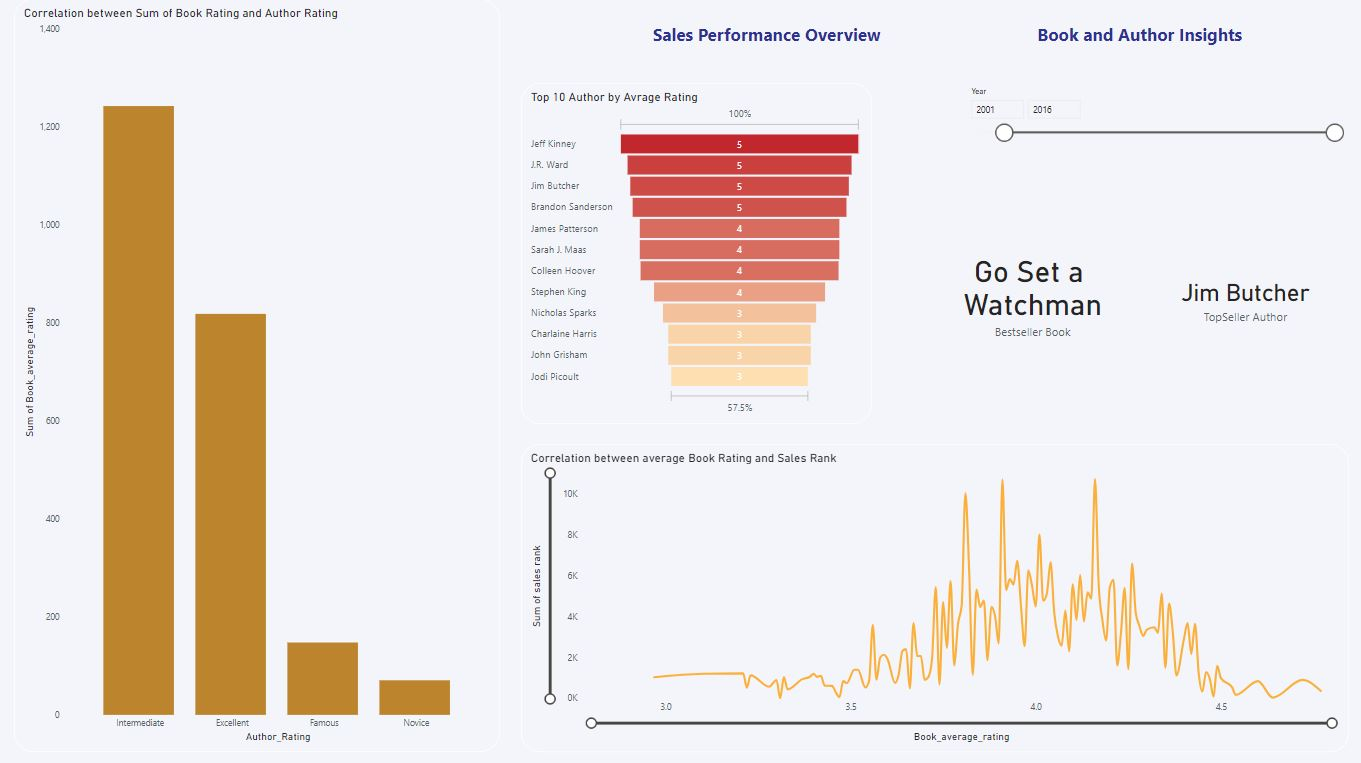

The page's visual inventory and layout, read from the dashboard file:
{"tool":"powerbi","page":{"name":"Book and Author Insights","canvas":[1920,1080],"ordinal":1},"visuals":[{"type":"actionButton","title":"Insights","box":[863.4,22.7,432.7,53.6],"z":0},{"type":"card","fields":{"Values":["Books_Data_Clean.Bestseller Book"]},"box":[1334,244,241.4,338.6],"z":0,"group":"g2"},{"type":"card","fields":{"Values":["Books_Data_Clean.TopSeller Author"]},"box":[1628,244,252,354],"z":0,"group":"g1"},{"type":"actionButton","title":"Sales","box":[1388.8,22.7,432.7,53.6],"z":1000},{"type":"slicer","fields":{"Values":["Books_Data_Clean.Publishing Year"]},"box":[1354,118,546,116],"z":2000},{"type":"funnel","title":"Top 10 Author by Avrage Rating","fields":{"Category":["Books_Data_Clean.Author"],"Y":["Books_Data_Clean.Average Author Rating"]},"box":[734,118,494,480],"z":3000},{"type":"lineChart","title":"Correlation between average Book Rating and  Sales Rank","fields":{"Y":["Sum(Books_Data_Clean.sales rank)"],"Category":["Books_Data_Clean.Book_average_rating"]},"box":[734,626,1166,434],"z":4000},{"type":"clusteredColumnChart","title":"Correlation between Sum of Book Rating and Author Rating","fields":{"Category":["Books_Data_Clean.Author_Rating"],"Y":["Sum(Books_Data_Clean.Book_average_rating)"]},"box":[20,0,684,1060],"z":5000},{"type":"group","id":"g1","title":"TopSeller Author","box":[1628,244,252,354],"z":6000},{"type":"group","id":"g2","title":"Bestseller book","box":[1334,244,240,338],"z":7000}]}

Visuals, with their boxes in screenshot pixels (x1, y1, x2, y2), scaled from the page's 1920x1080 canvas onto the 1361x763 screenshot:
"Insights" actionButton: (612, 16, 919, 54)
card - Books_Data_Clean.Bestseller Book: (946, 172, 1117, 412)
card - Books_Data_Clean.TopSeller Author: (1154, 172, 1333, 422)
"Sales" actionButton: (984, 16, 1291, 54)
slicer - Books_Data_Clean.Publishing Year: (960, 83, 1347, 165)
"Top 10 Author by Avrage Rating" funnel: (520, 83, 870, 422)
"Correlation between average Book Rating and  Sales Rank" lineChart: (520, 442, 1347, 749)
"Correlation between Sum of Book Rating and Author Rating" clusteredColumnChart: (14, 0, 499, 749)
"TopSeller Author" group: (1154, 172, 1333, 422)
"Bestseller book" group: (946, 172, 1116, 411)
